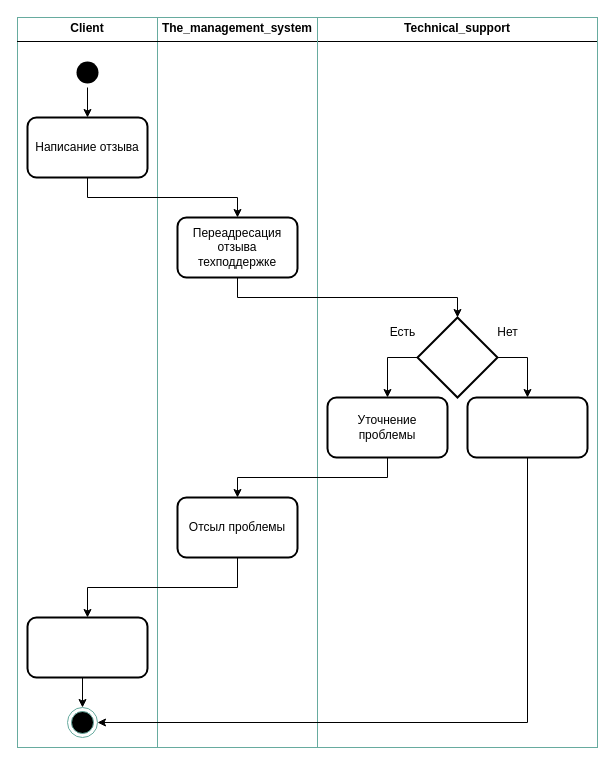
The diagram is 615 pixels wide and 765 high, and some of its shapes have lost their labels. Here are the shapes that lost their labels. From the top down, the centre of each, then its label:
At [457,357]: "Наличие проблем".
At [527,427]: "Проверка отзыва и ответ на него".
At [87,647]: "Связь с клиентом для исправления проблемы".
